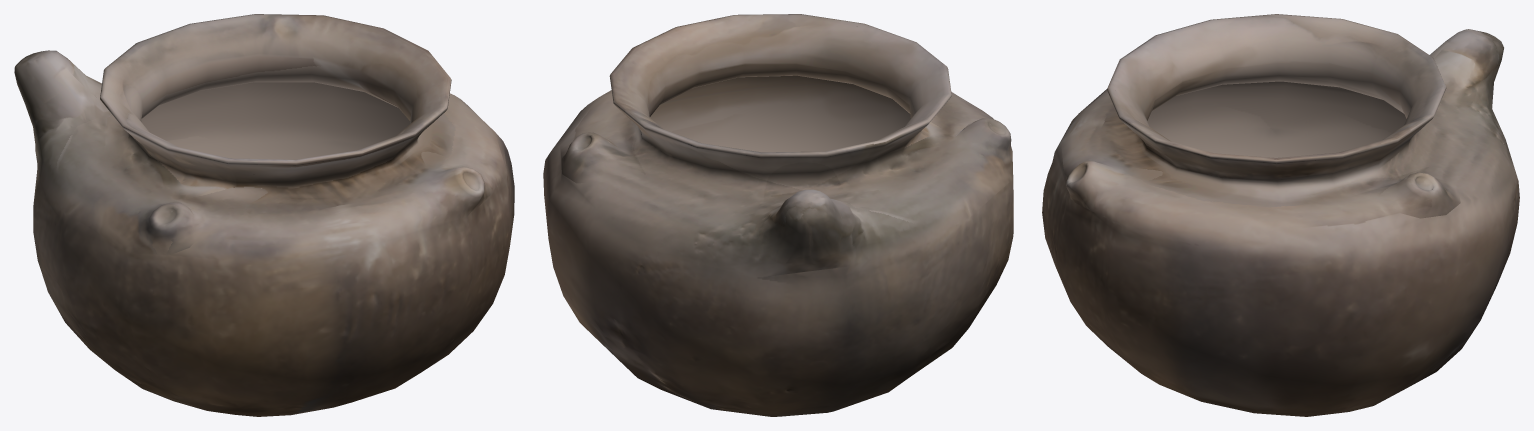
The model's file is olla tipo 2.fbx.
The picture shows the model from 3 angles, left to right: view 1: azimuth 30°, elevation 25°; view 2: azimuth 150°, elevation 25°; view 3: azimuth 270°, elevation 25°; orthographic projection. The views are drawn at different scales.
Parts seen in each view (by area): view 1: olla tipo 2; view 2: olla tipo 2; view 3: olla tipo 2.
Part boxes in pixels (left/top/right/bottom): olla tipo 2: left=14, top=14, right=514, bottom=416; olla tipo 2: left=543, top=14, right=1013, bottom=416; olla tipo 2: left=1042, top=14, right=1519, bottom=416.
Size of the model in its own units: 12.03 by 12.14 by 8.41.
1 material, 1 textured.
